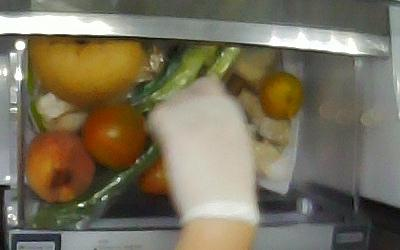peach: (29, 130, 95, 201)
pear: (30, 40, 142, 103)
tangerine: (260, 75, 302, 120)
tomato: (84, 105, 151, 168)
